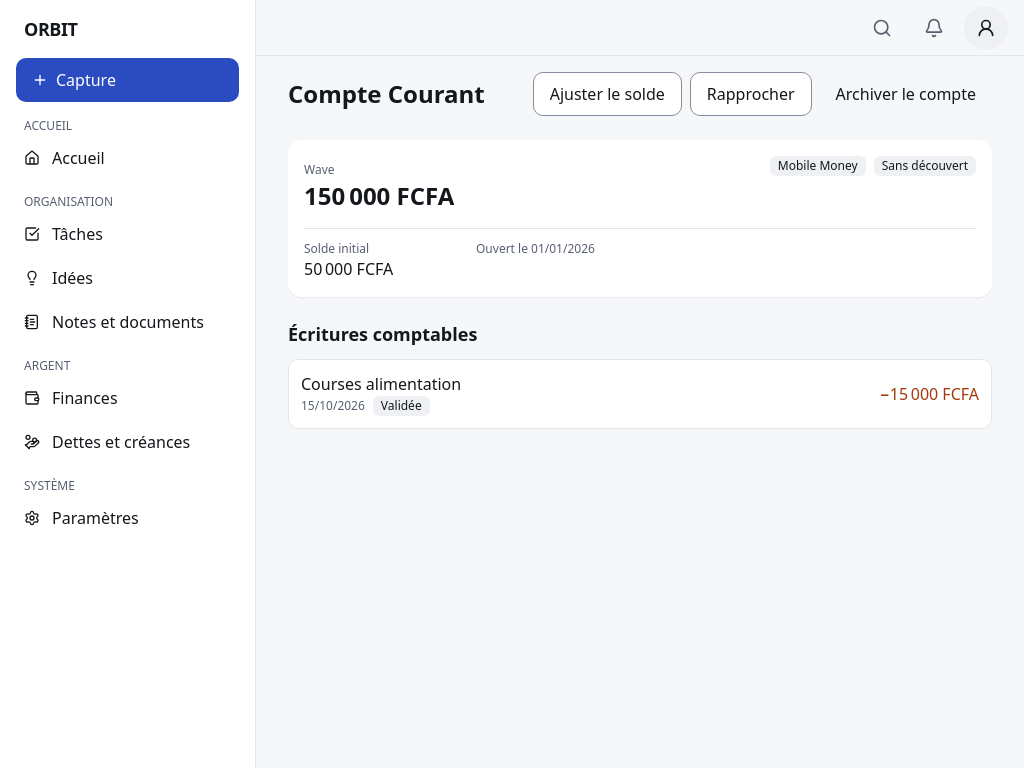
Test case: Finance - Account adjustments & reconciliation (/finance/accounts/:id) › opens reconciliation dialog, renders preview, and confirms
Expected: the heading "Compte Courant" is shown, [288,78,485,110]
Click the button "Rapprocher". click: click(751, 94)
box: [690,72,812,116]
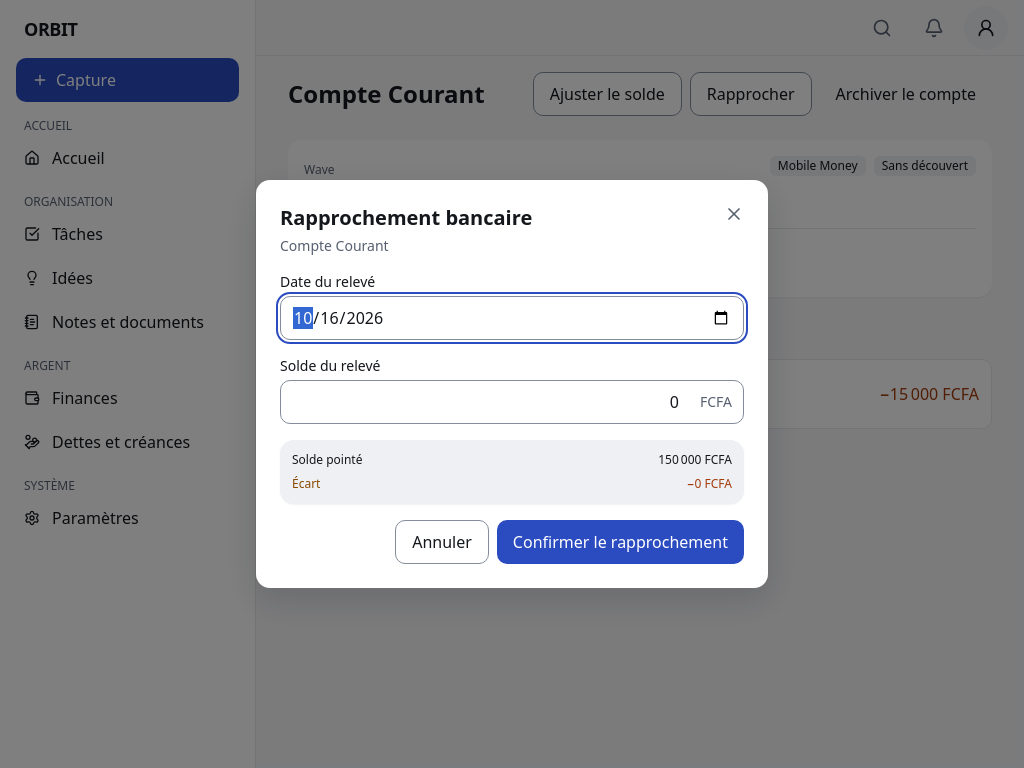
Now the heading "Rapprochement bancaire" is shown, box [280,204,532,231]
Click the button "Confirmer le rapprochement". click: click(620, 542)
box: [497,520,744,564]
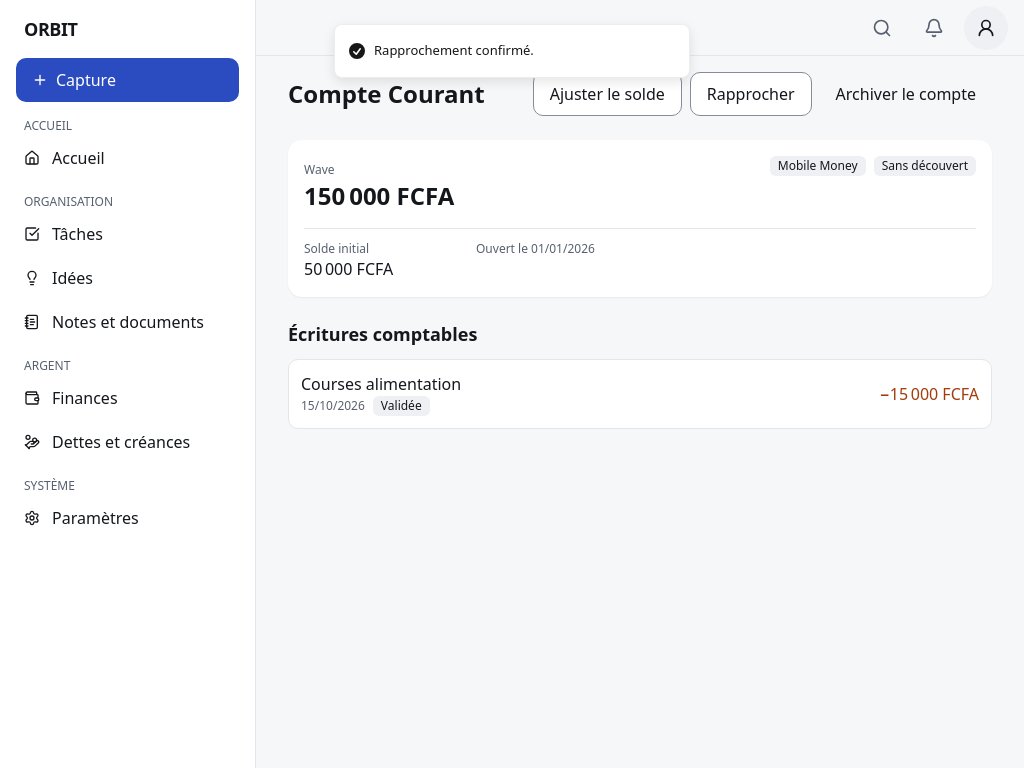
Now the heading "Rapprochement bancaire" is gone
